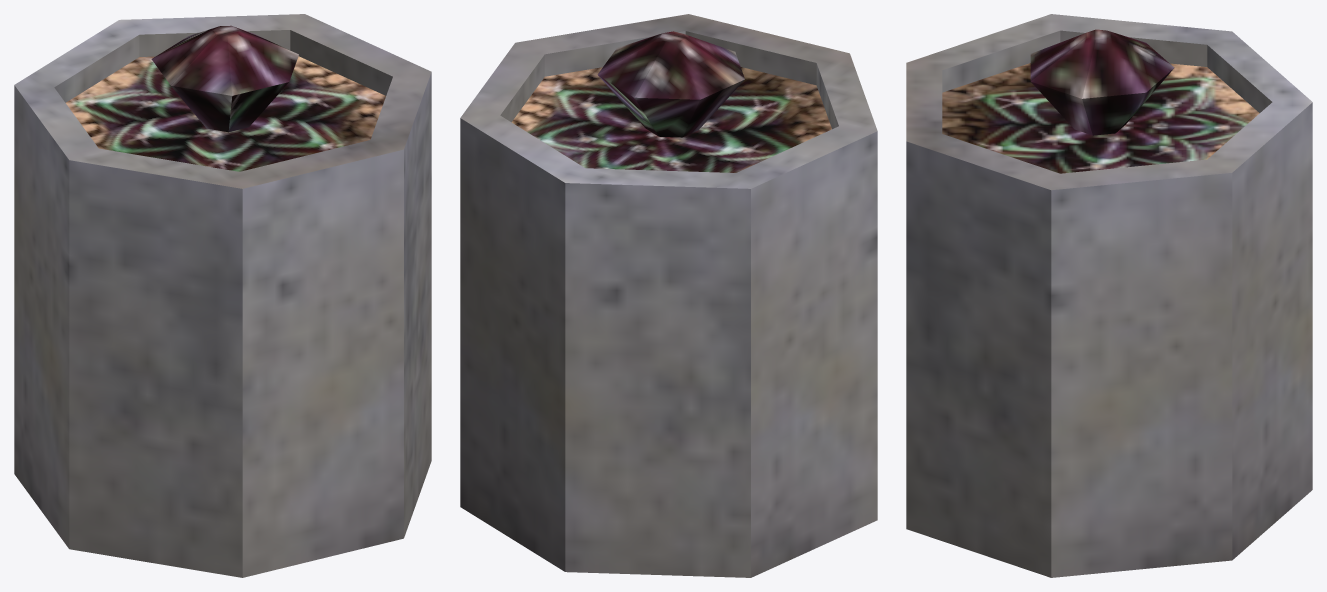
File: psx-cactus-plant-low-poly-pot-b0a092.glb
3 views of the same model, side by side, from view 1: azimuth 30°, elevation 25°; view 2: azimuth 150°, elevation 25°; view 3: azimuth 270°, elevation 25° (orthographic).
Visible parts, largest first — view 1: PropMesh; view 2: PropMesh; view 3: PropMesh.
Boxes of the visible parts, <box> form: PropMesh: <box>14,14,431,577</box>; PropMesh: <box>460,14,877,577</box>; PropMesh: <box>906,14,1312,577</box>.
Size of the model in its own units: 0.3324 by 0.4 by 0.3241.
1 material, 1 textured.
